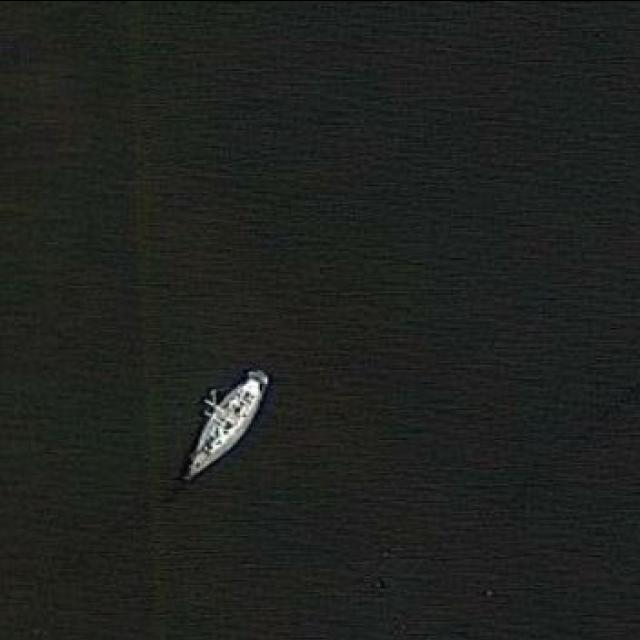ship: (175, 364, 276, 488)
